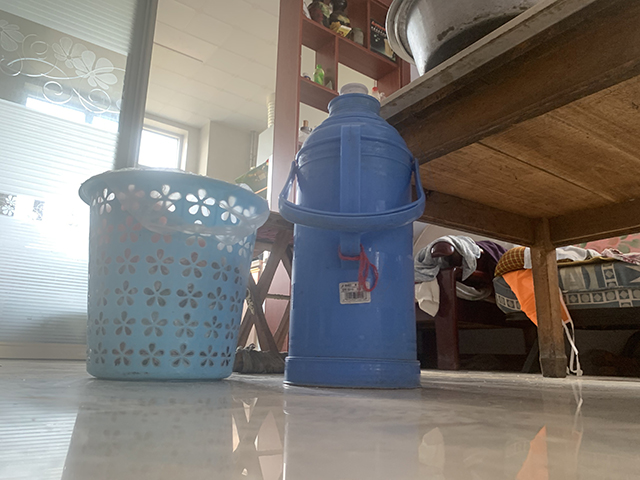table: (380, 1, 640, 380)
trashcan: (78, 167, 271, 384)
